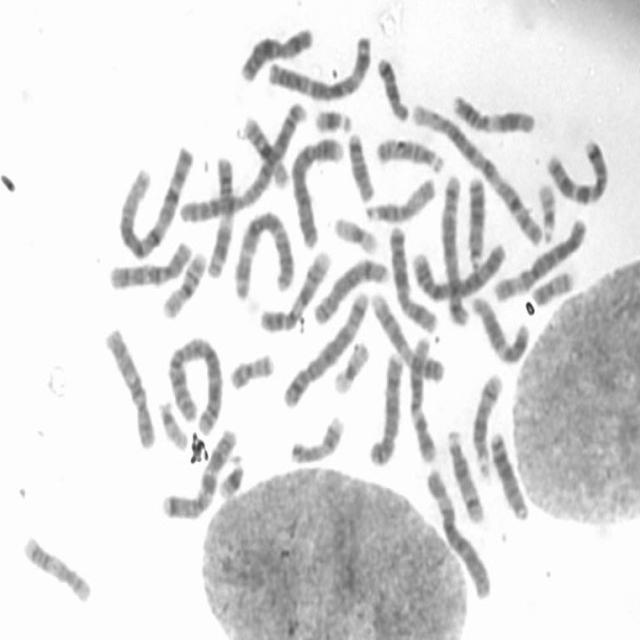A1: (407, 95, 546, 248), (115, 138, 196, 261)
A2: (176, 95, 310, 227), (165, 329, 225, 438)
A3: (264, 27, 373, 102), (231, 204, 298, 300)
B4: (288, 128, 346, 250), (408, 234, 508, 304)
B5: (279, 282, 371, 410), (436, 167, 471, 328)
C10: (100, 321, 158, 451), (105, 235, 194, 291)
C11: (448, 86, 538, 136), (205, 148, 238, 280)
C12: (468, 288, 532, 366), (406, 329, 442, 464)
C6: (422, 462, 495, 601), (490, 209, 590, 304)
C7: (158, 422, 238, 521), (542, 134, 610, 207)
C8: (308, 252, 389, 326), (365, 347, 405, 468)
C9: (368, 286, 448, 384), (256, 242, 333, 334)
D13: (486, 424, 532, 522), (462, 168, 488, 270)
D14: (442, 422, 486, 524), (468, 366, 504, 478)
D15: (362, 170, 438, 223), (372, 130, 447, 174)
E16: (235, 108, 292, 190), (159, 243, 209, 320)
E17: (19, 527, 94, 606), (286, 409, 346, 466)
E18: (372, 48, 410, 124), (344, 126, 377, 203)
F19: (329, 334, 372, 396), (331, 210, 380, 255)
F20: (225, 345, 277, 392), (529, 265, 576, 307)
G21: (215, 448, 248, 502), (310, 102, 354, 135)
G22: (155, 394, 190, 451), (534, 176, 558, 243)
X: (387, 218, 441, 335), (236, 18, 316, 84)
